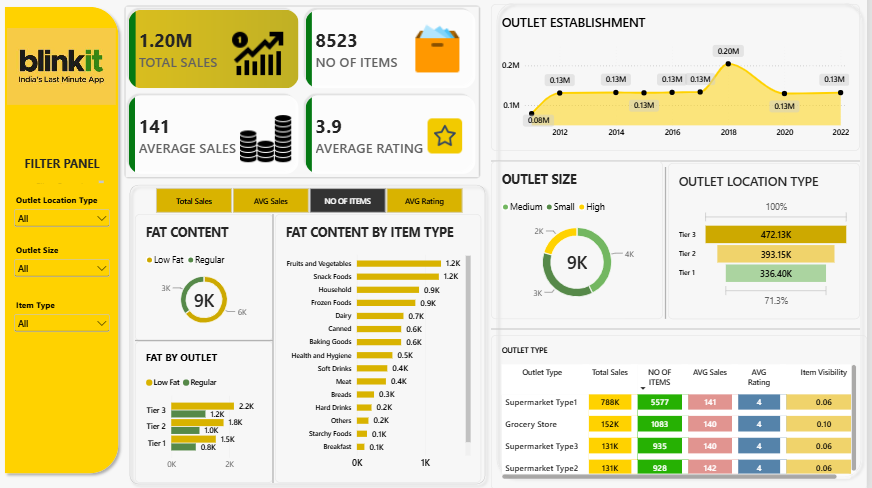

Layout of this report page (visuals, bound fields, positions):
{"tool":"powerbi","page":{"name":"Page 1","canvas":[1400,800],"ordinal":0},"visuals":[{"type":"shape","box":[11.2,17.6,200,764.8],"z":0},{"type":"image","box":[24,60.8,174.4,123.2],"z":1000},{"type":"cardVisual","fields":{"Data":["BlinkIT Grocery Data.Total Sales","BlinkIT Grocery Data.NO OF ITEMS","BlinkIT Grocery Data.AVG Sales","BlinkIT Grocery Data.AVG Rating"]},"box":[211.2,24,571.2,278.4],"z":2000},{"type":"image","box":[369.6,56,108.8,91.2],"z":3000},{"type":"image","box":[396.8,195.2,81.6,81.6],"z":4000},{"type":"image","box":[689.6,184,70.4,99.2],"z":5000},{"type":"image","box":[665.6,49.6,94.4,97.6],"z":6000},{"type":"shape","box":[211.2,302.4,587.2,497.6],"z":7000},{"type":"donutChart","title":"FAT CONTENT","fields":{"Y":["BlinkIT Grocery Data.NO OF ITEMS"],"Category":["BlinkIT Grocery Data.Item Fat Content"]},"box":[228.8,358.4,220.8,203.2],"z":8000},{"type":"slicer","fields":{"Values":["Metric.Metric"]},"box":[241.6,315.2,529.6,43.2],"z":9000},{"type":"clusteredBarChart","title":"FAT BY OUTLET","fields":{"Y":["BlinkIT Grocery Data.NO OF ITEMS"],"Category":["BlinkIT Grocery Data.Outlet Location Type"],"Series":["BlinkIT Grocery Data.Item Fat Content"]},"box":[228.8,561.6,220.8,227.2],"z":10000},{"type":"shape","box":[228.8,526.4,220.8,68.8],"z":11000},{"type":"shape","box":[403.2,358.4,92.8,430.4],"z":12000},{"type":"barChart","title":"FAT CONTENT BY ITEM TYPE","fields":{"Y":["BlinkIT Grocery Data.NO OF ITEMS"],"Category":["BlinkIT Grocery Data.Item Type"]},"box":[452.8,358.4,329.6,430.4],"z":13000},{"type":"shape","box":[798.4,11.2,601.6,777.6],"z":14000},{"type":"lineChart","title":"OUTLET ESTABLISHMENT","fields":{"Category":["BlinkIT Grocery Data.Outlet Establishment Year"],"Y":["BlinkIT Grocery Data.Total Sales"]},"box":[798.4,22.4,590.4,235.2],"z":15000},{"type":"shape","box":[798.4,264,590.4,19.2],"z":16000},{"type":"donutChart","title":"OUTLET SIZE","fields":{"Y":["BlinkIT Grocery Data.NO OF ITEMS"],"Category":["BlinkIT Grocery Data.Outlet Size"]},"box":[798.4,273.6,275.2,252.8],"z":17000},{"type":"shape","box":[1064,283.2,27.2,243.2],"z":18000},{"type":"funnel","title":"OUTLET LOCATION TYPE","fields":{"Y":["Sum(BlinkIT Grocery Data.Sales)"],"Category":["BlinkIT Grocery Data.Outlet Location Type"]},"box":[1081.6,276.8,307.2,249.6],"z":19000},{"type":"shape","box":[798.4,532.8,590.4,19.2],"z":20000},{"type":"pivotTable","title":"OUTLET TYPE","fields":{"Rows":["BlinkIT Grocery Data.Outlet Type"],"Values":["BlinkIT Grocery Data.Total Sales","BlinkIT Grocery Data.NO OF ITEMS","BlinkIT Grocery Data.AVG Sales","BlinkIT Grocery Data.AVG Rating","Avg(BlinkIT Grocery Data.Item Visibility)"]},"box":[798.4,552,601.6,248],"z":21000},{"type":"slicer","fields":{"Values":["BlinkIT Grocery Data.Outlet Location Type"]},"box":[30.4,326.4,163.2,62.4],"z":22000},{"type":"slicer","fields":{"Values":["BlinkIT Grocery Data.Outlet Size"]},"box":[30.4,406.4,163.2,62.4],"z":23000},{"type":"slicer","fields":{"Values":["BlinkIT Grocery Data.Item Type"]},"box":[30.4,494.4,163.2,62.4],"z":24000},{"type":"textbox","title":"FILTER PANEL","box":[44.8,264,134.4,44.8],"z":25000}]}

Visuals, with their boxes in screenshot pixels (x1, y1, x2, y2), scaled from the page's 1400x800 canvas onto the 872x488 screenshot:
shape: (x1=7, y1=11, x2=132, y2=477)
image: (x1=15, y1=37, x2=124, y2=112)
cardVisual - BlinkIT Grocery Data.Total Sales x BlinkIT Grocery Data.NO OF ITEMS: (x1=132, y1=15, x2=487, y2=184)
image: (x1=230, y1=34, x2=298, y2=90)
image: (x1=247, y1=119, x2=298, y2=169)
image: (x1=430, y1=112, x2=473, y2=173)
image: (x1=415, y1=30, x2=473, y2=90)
shape: (x1=132, y1=184, x2=497, y2=487)
"FAT CONTENT" donutChart: (x1=143, y1=219, x2=280, y2=343)
slicer - Metric.Metric: (x1=150, y1=192, x2=480, y2=219)
"FAT BY OUTLET" clusteredBarChart: (x1=143, y1=343, x2=280, y2=481)
shape: (x1=143, y1=321, x2=280, y2=363)
shape: (x1=251, y1=219, x2=309, y2=481)
"FAT CONTENT BY ITEM TYPE" barChart: (x1=282, y1=219, x2=487, y2=481)
shape: (x1=497, y1=7, x2=871, y2=481)
"OUTLET ESTABLISHMENT" lineChart: (x1=497, y1=14, x2=865, y2=157)
shape: (x1=497, y1=161, x2=865, y2=173)
"OUTLET SIZE" donutChart: (x1=497, y1=167, x2=669, y2=321)
shape: (x1=663, y1=173, x2=680, y2=321)
"OUTLET LOCATION TYPE" funnel: (x1=674, y1=169, x2=865, y2=321)
shape: (x1=497, y1=325, x2=865, y2=337)
"OUTLET TYPE" pivotTable: (x1=497, y1=337, x2=871, y2=487)
slicer - BlinkIT Grocery Data.Outlet Location Type: (x1=19, y1=199, x2=121, y2=237)
slicer - BlinkIT Grocery Data.Outlet Size: (x1=19, y1=248, x2=121, y2=286)
slicer - BlinkIT Grocery Data.Item Type: (x1=19, y1=302, x2=121, y2=340)
"FILTER PANEL" textbox: (x1=28, y1=161, x2=112, y2=188)
